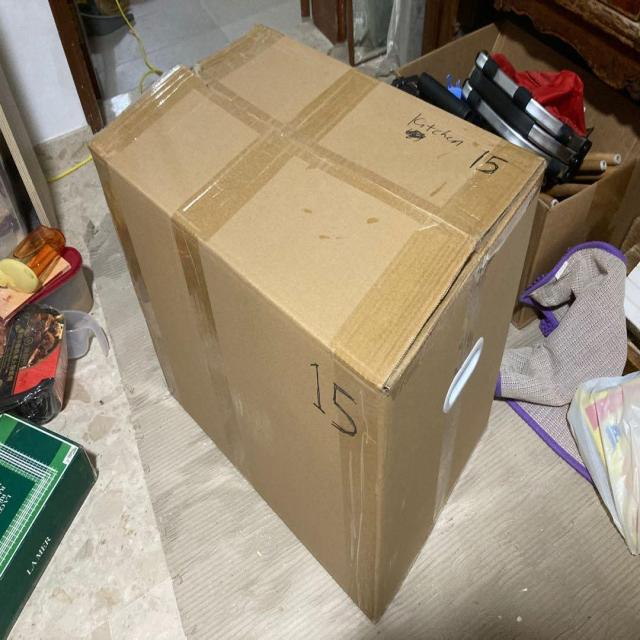cardboard: (87, 20, 548, 624)
